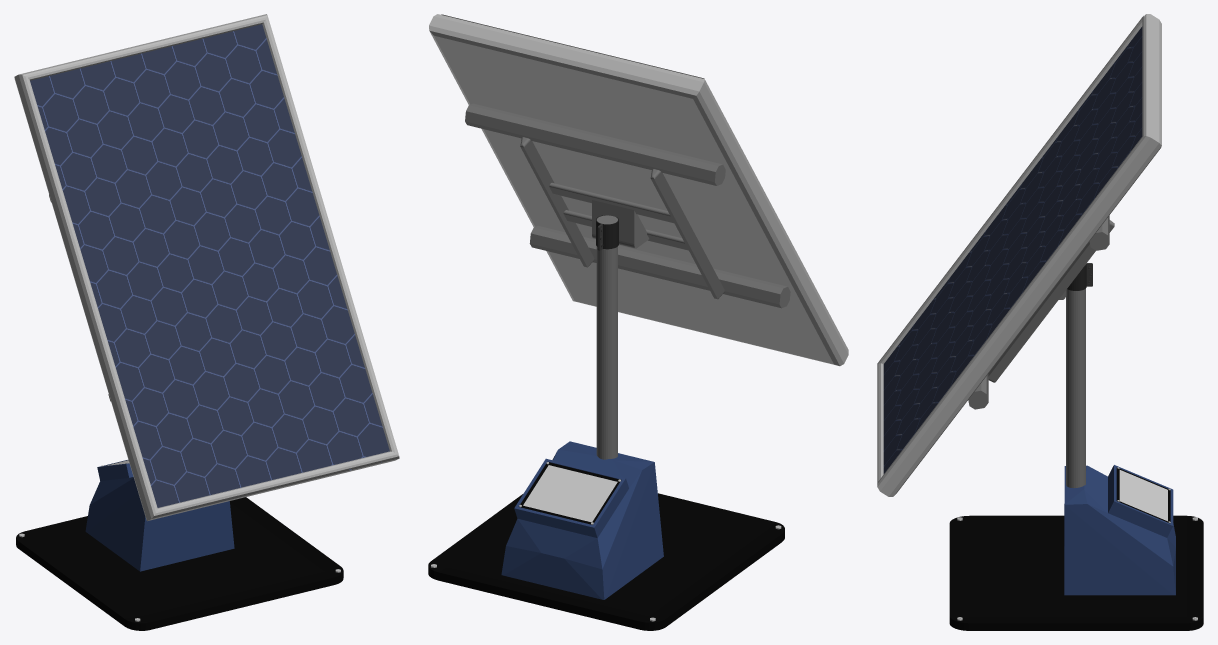
Rendered from donenpanel.fbx.
The picture shows the model from 3 angles, left to right: view 1: azimuth 30°, elevation 25°; view 2: azimuth 150°, elevation 25°; view 3: azimuth 270°, elevation 25°; orthographic projection. The views are drawn at different scales.
Visible parts, largest first — view 1: Cylinder.001, Cube.014, Cube.005; view 2: Cylinder.001, Cube.014, Cube.005, Cylinder.002, Cube.006; view 3: Cylinder.001, Cube.014, Cube.005, Cylinder.002, Cube.006.
Part boxes in pixels (box(x1,y1,x2,y2)): Cylinder.001: box(14, 14, 399, 520); Cube.014: box(16, 497, 343, 630); Cube.005: box(85, 460, 234, 571); Cylinder.001: box(429, 14, 848, 366); Cube.014: box(428, 493, 784, 630); Cube.005: box(501, 441, 663, 599); Cylinder.002: box(596, 215, 618, 459); Cube.006: box(519, 462, 621, 524); Cylinder.001: box(877, 14, 1161, 496); Cube.014: box(949, 515, 1203, 630); Cube.005: box(1064, 465, 1175, 595); Cylinder.002: box(1066, 263, 1086, 488); Cube.006: box(1116, 467, 1170, 523).
Bounding box in the file's own units: 1.25 × 2.36 × 1.39.
